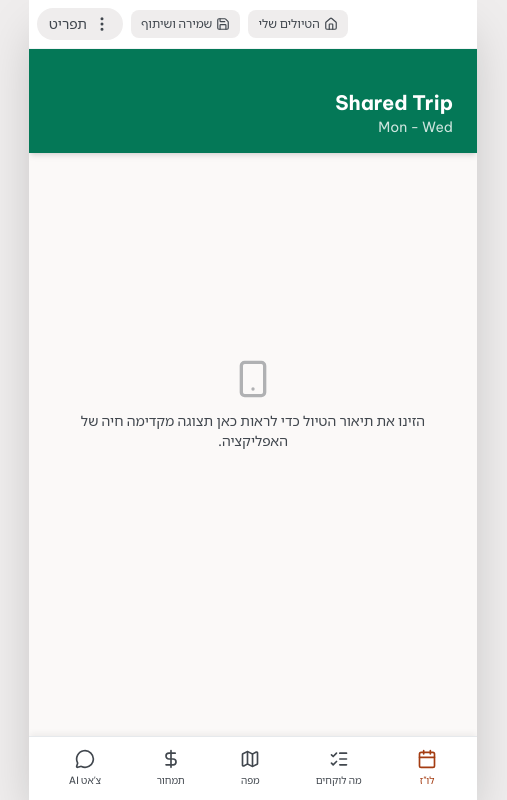
App shared-trip viewer › shows admin controls and saves changes in place for a signed-in admin
The width and height of the screenshot is (507, 800).
Click the button "שמירה ושיתוף" at point(186, 24), box [131,10,240,38]
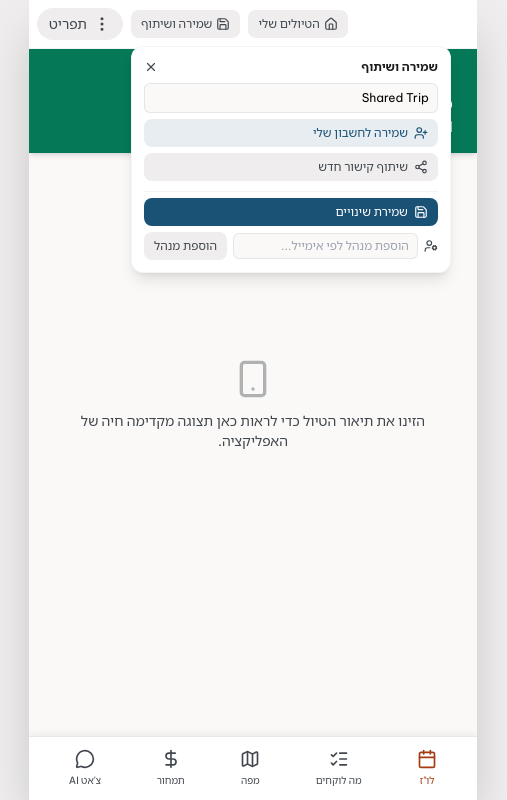
Now the button "שמירת שינויים" is shown
Click the button "שמירת שינויים" at point(372, 212), box [144,198,438,226]
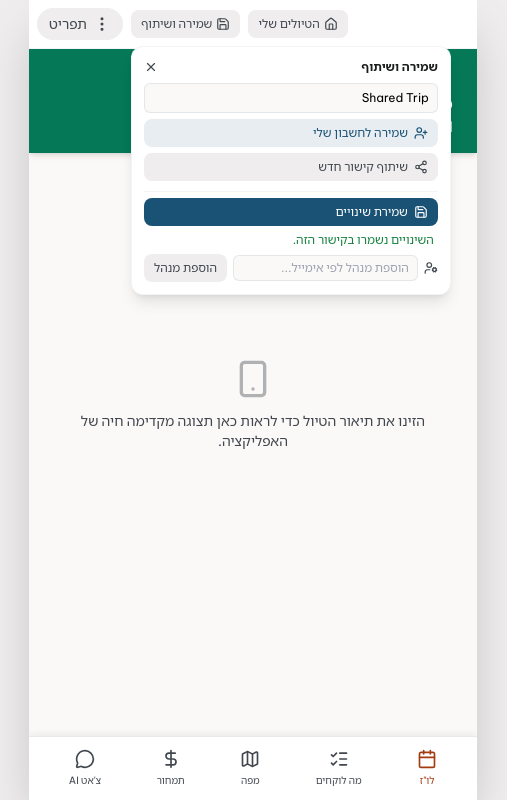
Now the text "השינויים נשמרו בקישור הזה." is shown, box [293,232,434,247]
